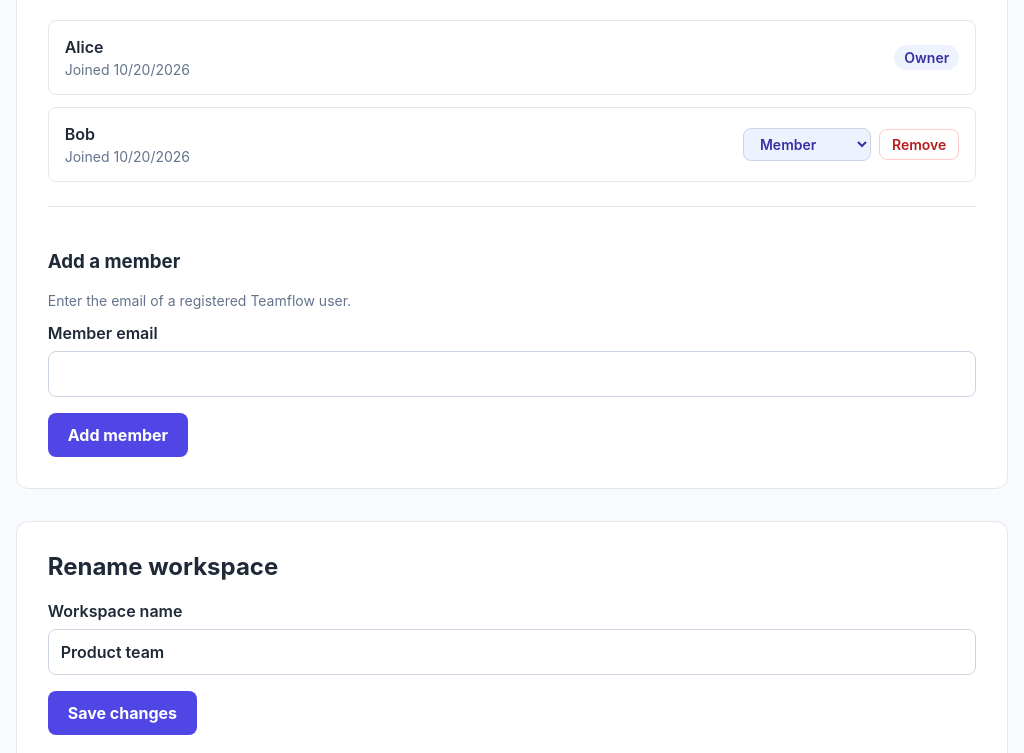
Scenario: WorkspaceDetailsPage › lets an owner add a member and updates the roster
(page scrolled)
In the field labelled "Member email": [512, 374] box [48,351,976,397], type "  CAROL@EXAMPLE.COM  "
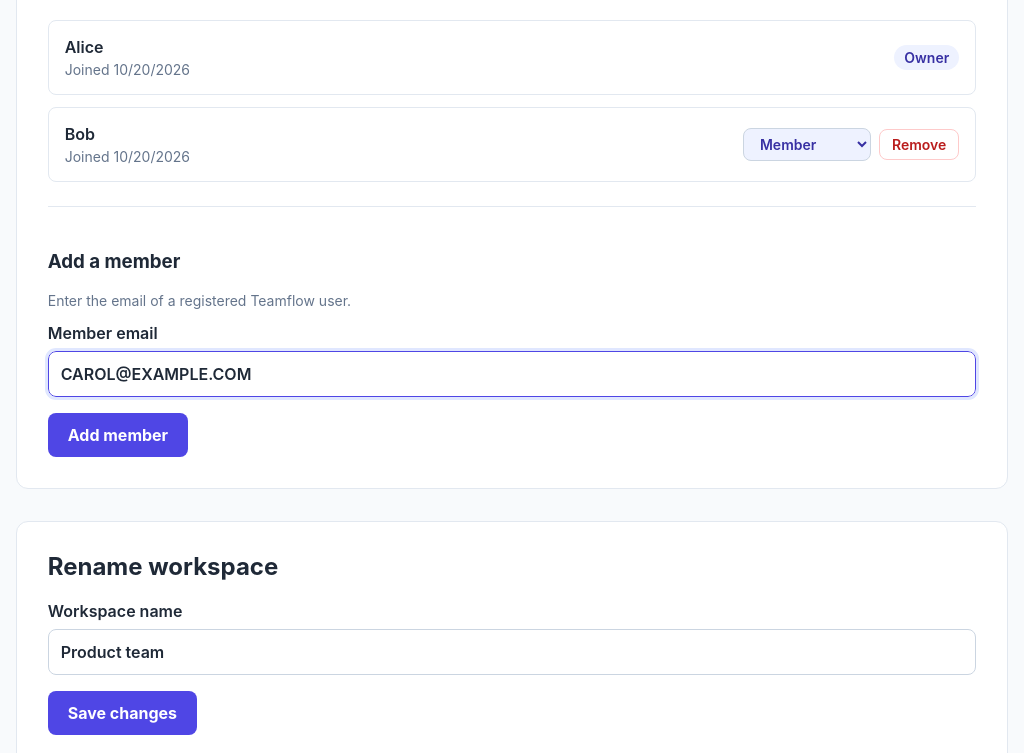
Click the button "Add member": [118, 435] box [48,413,188,457]
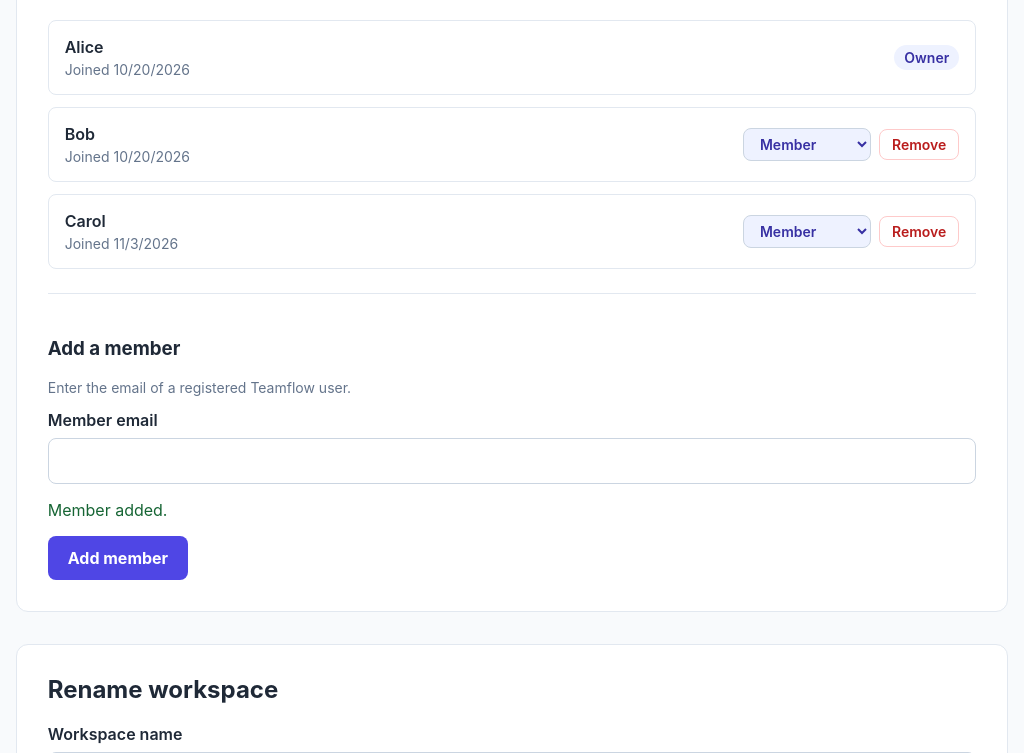
Expected: the message reads "Member added.", [48,500,168,520]
Expected: the field labelled "Member email" is empty, [48,438,976,484]
Expected: the number of list items is 3, [48,20,976,95]; [48,107,976,182]; [48,194,976,269]
